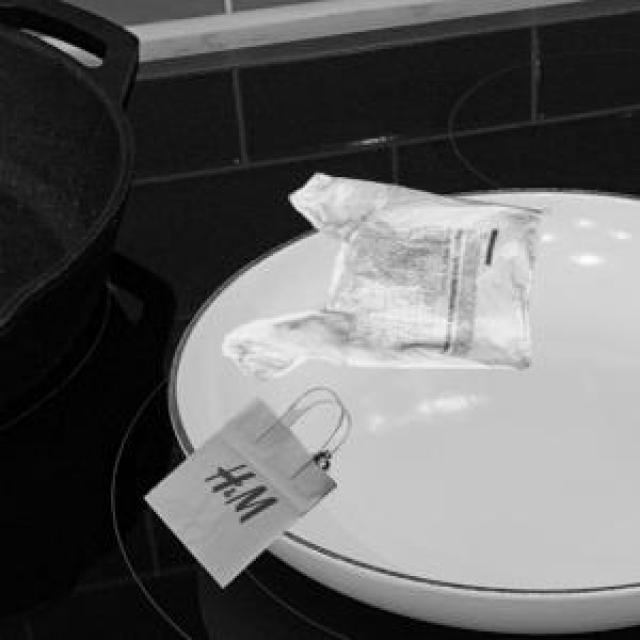paper: (141, 393, 331, 582)
